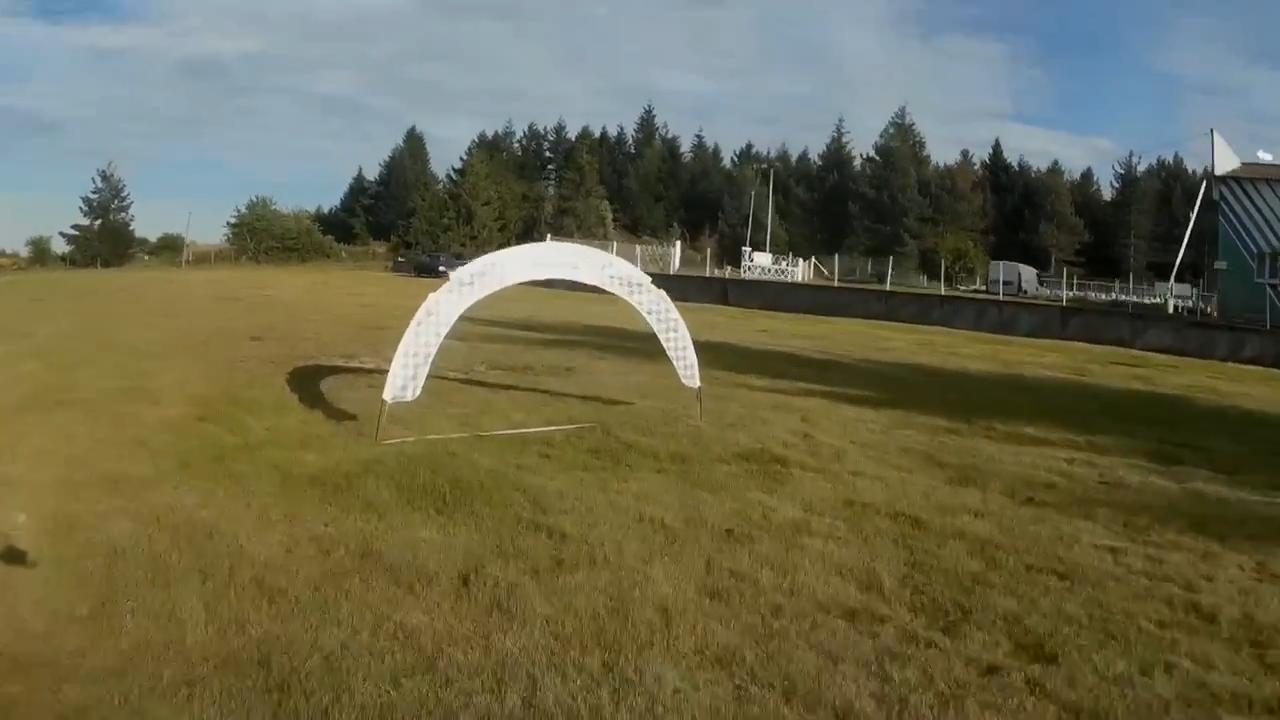gate: (380, 241, 697, 404)
